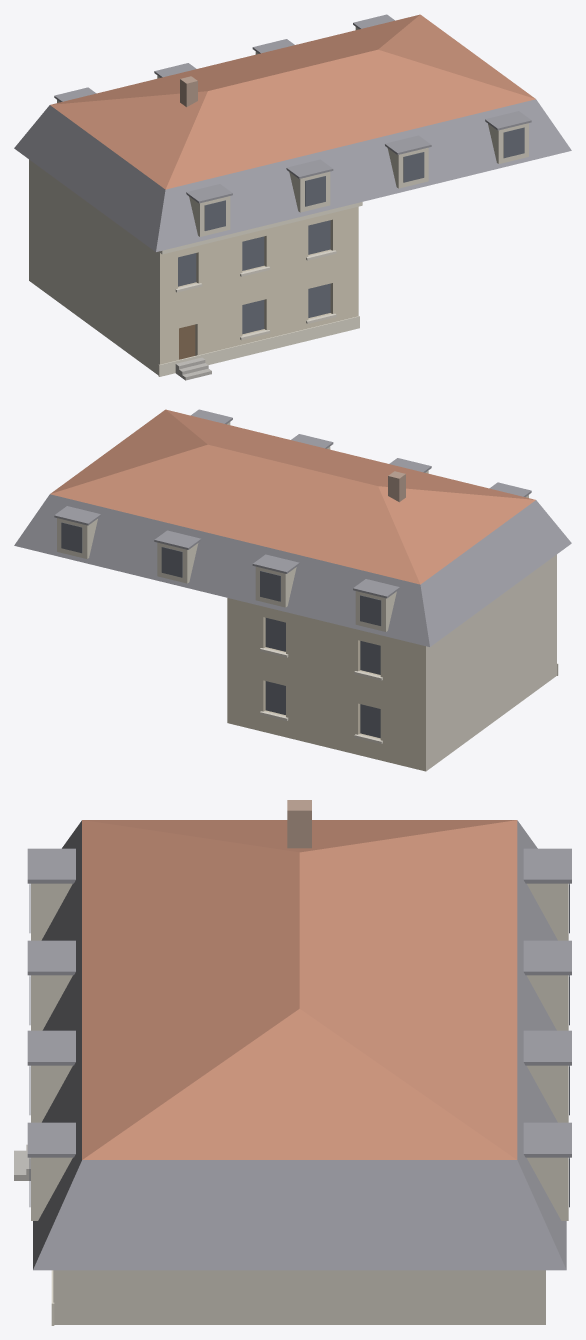
3 renders of one model, top to bottom at view 1: azimuth 30°, elevation 25°; view 2: azimuth 150°, elevation 25°; view 3: azimuth 270°, elevation 25°, orthographic. The views are drawn at different scales.
Parts seen in each view (by area): view 1: CP_1906_Roof_Upper, CP_1906_Masonry, CP_1906_Roof_Lower, CP_1906_Cornice_main_plinth_0, CP_1906_Cornice_main_eave_0, CP_1906_Roof_MW2, CP_1906_Roof_MW0, CP_1906_Roof_MW3, CP_1906_Roof_MW1, CP_1906_Roof_MW0_glass, CP_1906_Roof_MW3_glass, CP_1906_Roof_MW2_glass (+6 smaller); view 2: CP_1906_Roof_Upper, CP_1906_Masonry, CP_1906_Roof_Lower, CP_1906_Roof_MW6, CP_1906_Roof_MW4, CP_1906_Roof_MW7, CP_1906_Roof_MW5, CP_1906_Roof_MW7_glass, CP_1906_Roof_MW4_glass, CP_1906_Roof_MW6_glass, CP_1906_Roof_MW5_glass, CP_1906_Roof_MW5_cap (+4 smaller); view 3: CP_1906_Roof_Upper, CP_1906_Roof_Lower, CP_1906_Masonry, CP_1906_Roof_MW0_cap, CP_1906_Roof_MW2_cap, CP_1906_Roof_MW3_cap, CP_1906_Roof_MW1_cap, CP_1906_Roof_MW4_cap, CP_1906_Roof_MW5_cap, CP_1906_Roof_MW6_cap, CP_1906_Roof_MW7_cap, CP_1906_Roof_MW7 (+8 smaller).
Boxes of the visible parts, x1,y1,x2,y2 form: CP_1906_Roof_Upper: [50, 14, 535, 189]; CP_1906_Masonry: [29, 159, 358, 375]; CP_1906_Roof_Lower: [14, 99, 571, 251]; CP_1906_Cornice_main_plinth_0: [158, 316, 359, 376]; CP_1906_Cornice_main_eave_0: [159, 202, 362, 254]; CP_1906_Roof_MW2: [387, 147, 428, 188]; CP_1906_Roof_MW0: [189, 196, 230, 236]; CP_1906_Roof_MW3: [488, 123, 528, 163]; CP_1906_Roof_MW1: [289, 171, 330, 212]; CP_1906_Roof_MW0_glass: [204, 200, 225, 230]; CP_1906_Roof_MW3_glass: [503, 127, 524, 158]; CP_1906_Roof_MW2_glass: [403, 152, 424, 182]; CP_1906_Roof_Upper: [50, 409, 535, 584]; CP_1906_Masonry: [227, 554, 556, 771]; CP_1906_Roof_Lower: [14, 494, 571, 646]; CP_1906_Roof_MW6: [157, 542, 198, 583]; CP_1906_Roof_MW4: [355, 591, 396, 631]; CP_1906_Roof_MW7: [57, 518, 97, 558]; CP_1906_Roof_MW5: [255, 566, 296, 607]; CP_1906_Roof_MW7_glass: [61, 522, 82, 553]; CP_1906_Roof_MW4_glass: [360, 595, 381, 625]; CP_1906_Roof_MW6_glass: [161, 547, 182, 577]; CP_1906_Roof_MW5_glass: [260, 571, 280, 601]; CP_1906_Roof_MW5_cap: [252, 554, 299, 573]; CP_1906_Roof_Upper: [82, 820, 517, 1159]; CP_1906_Roof_Lower: [33, 820, 566, 1270]; CP_1906_Masonry: [53, 1270, 545, 1324]; CP_1906_Roof_MW0_cap: [27, 848, 75, 883]; CP_1906_Roof_MW2_cap: [27, 1030, 75, 1065]; CP_1906_Roof_MW3_cap: [27, 1122, 75, 1157]; CP_1906_Roof_MW1_cap: [27, 940, 75, 975]; CP_1906_Roof_MW4_cap: [523, 848, 571, 883]; CP_1906_Roof_MW5_cap: [523, 940, 571, 975]; CP_1906_Roof_MW6_cap: [523, 1030, 571, 1065]; CP_1906_Roof_MW7_cap: [523, 1122, 571, 1157]; CP_1906_Roof_MW7: [527, 1157, 568, 1220].
Size of the model in its own units: 22 by 11.4 by 13.59.
